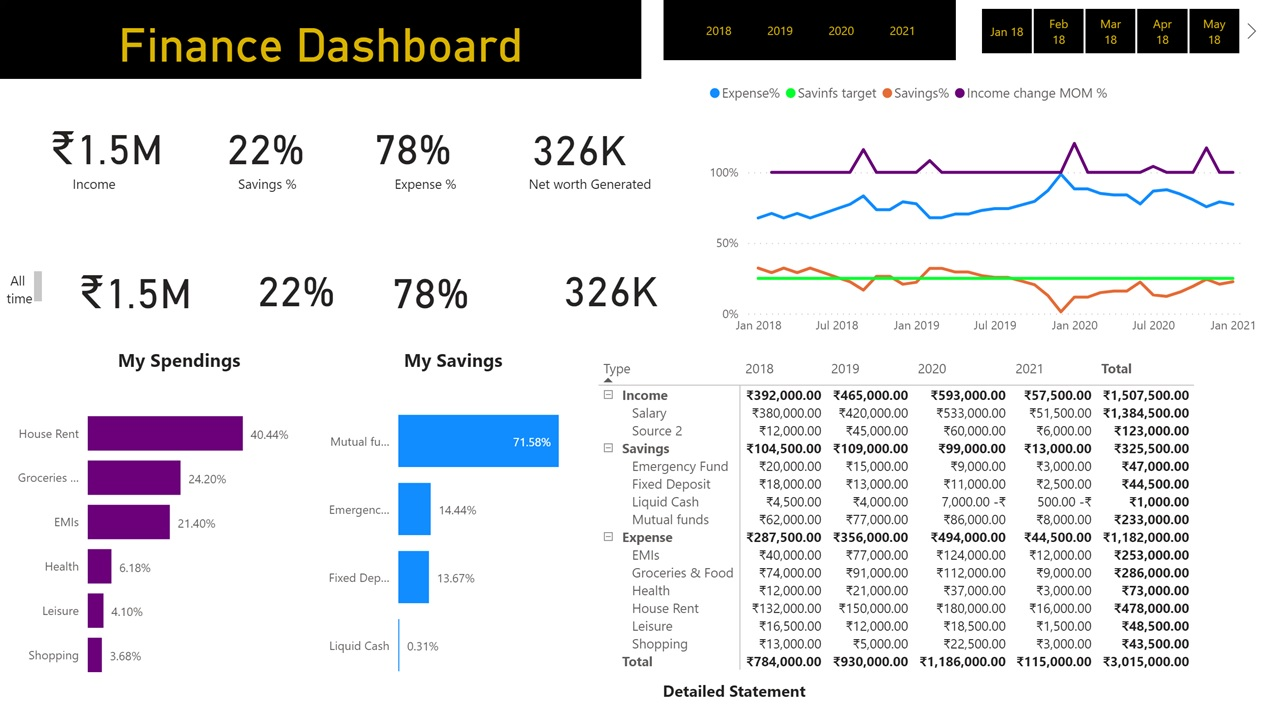

This screenshot's page, from the dashboard's own definition file:
{"tool":"powerbi","page":{"name":"Page 1","canvas":[1280,720],"ordinal":0},"visuals":[{"type":"card","fields":{"Values":["Measures_key.Total Income"]},"box":[20.7,79.2,174.4,136.6],"z":0},{"type":"card","fields":{"Values":["Measures_key.Savings%"]},"box":[195.3,79.3,148.8,136.5],"z":1000},{"type":"card","fields":{"Values":["Measures_key.Expense%"]},"box":[344.4,82.8,148.8,128.6],"z":2000},{"type":"card","fields":{"Values":["Measures_key.Total Savings"]},"box":[493.4,80.1,189.4,136.5],"z":3000},{"type":"textbox","box":[21.4,172,148.7,31.1],"z":4000},{"type":"textbox","box":[195.8,172,150.1,31.1],"z":5000},{"type":"textbox","box":[356.8,172.1,148.9,30.6],"z":6000},{"type":"textbox","box":[524.3,172,148.7,31.1],"z":7000},{"type":"slicer","fields":{"Values":["FinData.Year"]},"box":[673.2,0,296.4,61.2],"z":8000},{"type":"slicer","fields":{"Values":["FinData.Date"]},"box":[969.6,2.4,310.8,58.8],"z":9000},{"type":"card","fields":{"Values":["Measures_key.Total Income"]},"box":[47.6,224.6,178.8,136.5],"z":10000},{"type":"card","fields":{"Values":["Measures_key.Savings%"]},"box":[226.3,222.8,148.8,136.5],"z":11000},{"type":"card","fields":{"Values":["Measures_key.Expense%"]},"box":[362,225.5,148.8,136.5],"z":12000},{"type":"card","fields":{"Values":["Measures_key.Total Savings"]},"box":[524.9,222.8,189.4,136.5],"z":13000},{"type":"textbox","box":[0,270.4,47.6,43.2],"z":14000},{"type":"card","fields":{"Values":["Measures_key.Title"]},"box":[0,0,650.4,79.8],"z":15000},{"type":"clusteredBarChart","fields":{"Y":["Measures_key.Total Expense"],"Category":["FinData.Component"]},"box":[0,391,303,314.4],"z":16000},{"type":"textbox","box":[39.2,347.5,285.3,43.3],"z":17000},{"type":"clusteredBarChart","fields":{"Category":["FinData.Component"],"Y":["Measures_key.Total Savings"]},"box":[317.1,380.5,295.9,335.6],"z":18000},{"type":"textbox","box":[317.1,347,285.4,43.2],"z":19000},{"type":"lineChart","fields":{"Y":["Measures_key.Expense%","Measures_key.Savinfs target","Measures_key.Savings%","Measures_key.Income change MOM %"],"Category":["FinData.Date"]},"box":[714.3,74,565.4,273.9],"z":20000},{"type":"pivotTable","fields":{"Columns":["FinData.Year"],"Rows":["Table.Type","FinData.Component"],"Values":["Measures_key.Values"]},"box":[602.4,359.3,677.3,361.1],"z":21000},{"type":"textbox","box":[602.4,684.3,285.4,31.7],"z":22000}]}

Visuals, with their boxes in screenshot pixels (x1, y1, x2, y2), scaled from the page's 1280x720 canvas onto the 1262x720 screenshot:
card - Measures_key.Total Income: 20, 79, 192, 216
card - Measures_key.Savings%: 193, 79, 339, 216
card - Measures_key.Expense%: 340, 83, 486, 211
card - Measures_key.Total Savings: 486, 80, 673, 217
textbox: 21, 172, 168, 203
textbox: 193, 172, 341, 203
textbox: 352, 172, 499, 203
textbox: 517, 172, 664, 203
slicer - FinData.Year: 664, 0, 956, 61
slicer - FinData.Date: 956, 2, 1261, 61
card - Measures_key.Total Income: 47, 225, 223, 361
card - Measures_key.Savings%: 223, 223, 370, 359
card - Measures_key.Expense%: 357, 226, 504, 362
card - Measures_key.Total Savings: 518, 223, 704, 359
textbox: 0, 270, 47, 314
card - Measures_key.Title: 0, 0, 641, 80
clusteredBarChart - Measures_key.Total Expense x FinData.Component: 0, 391, 299, 705
textbox: 39, 348, 320, 391
clusteredBarChart - FinData.Component x Measures_key.Total Savings: 313, 380, 604, 716
textbox: 313, 347, 594, 390
lineChart - Measures_key.Expense% x Measures_key.Savinfs target: 704, 74, 1261, 348
pivotTable - FinData.Year x Table.Type: 594, 359, 1261, 719
textbox: 594, 684, 875, 716
